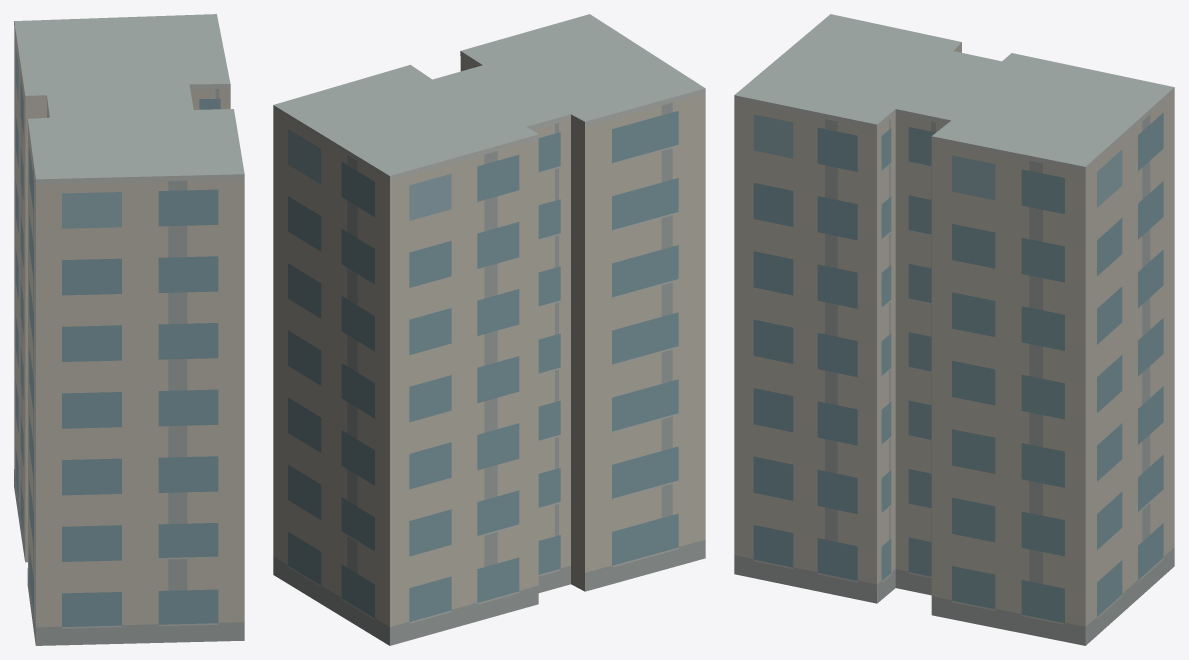
The model's file is survey-upis-32809214.glb.
3 renders of one model, left to right at view 1: azimuth 30°, elevation 25°; view 2: azimuth 150°, elevation 25°; view 3: azimuth 270°, elevation 25°, orthographic. The views are drawn at different scales.
Visible parts, largest first — view 1: survey-upis-32809214.tmp; view 2: survey-upis-32809214.tmp; view 3: survey-upis-32809214.tmp.
Part boxes in pixels (<box>): survey-upis-32809214.tmp: <box>14,14,244,645</box>; survey-upis-32809214.tmp: <box>273,14,705,645</box>; survey-upis-32809214.tmp: <box>734,14,1174,645</box>.
Size of the model in its own units: 15.62 by 22.8 by 19.01.
